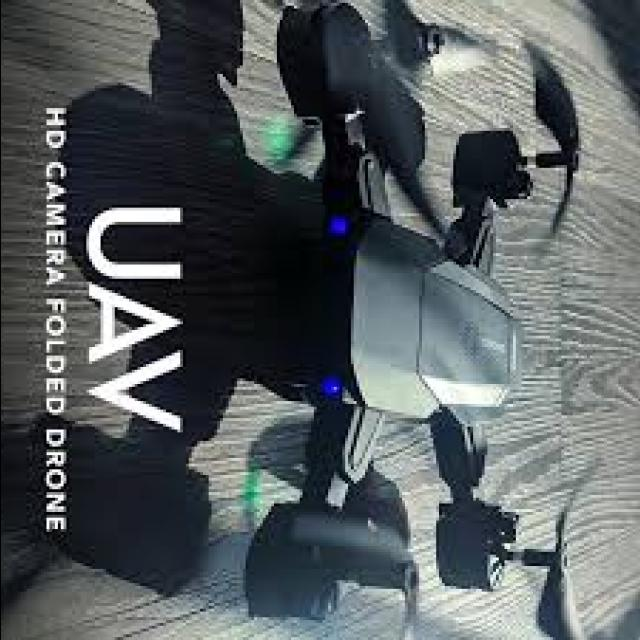drone: (244, 0, 598, 640)
